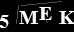5: (1, 14, 9, 29)
E: (38, 6, 52, 21)
K: (58, 10, 74, 25)
M: (17, 10, 39, 25)
